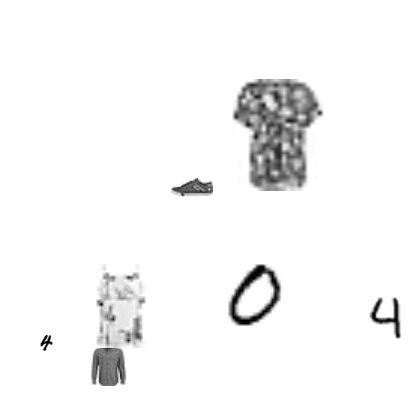0: (211, 253, 295, 337)
4: (358, 288, 414, 344), (35, 331, 57, 353)
Shirt: (218, 79, 330, 191), (79, 264, 163, 348), (87, 344, 129, 386)
Sneaker: (171, 166, 213, 208)
